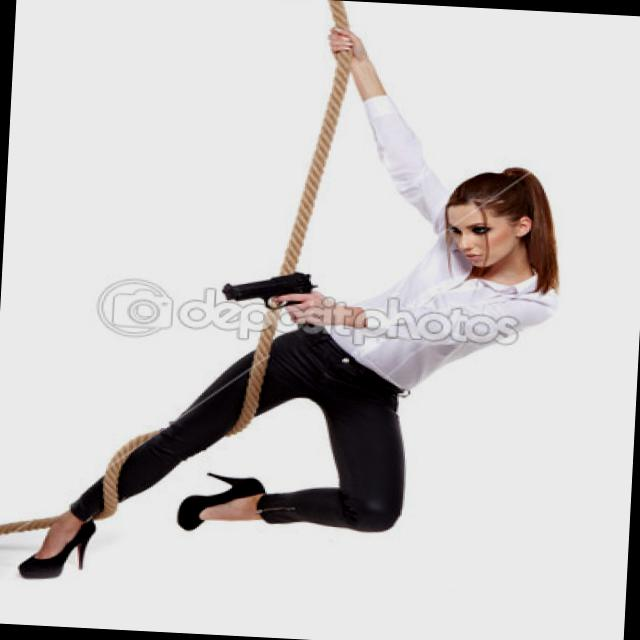handgun: (210, 260, 326, 340)
